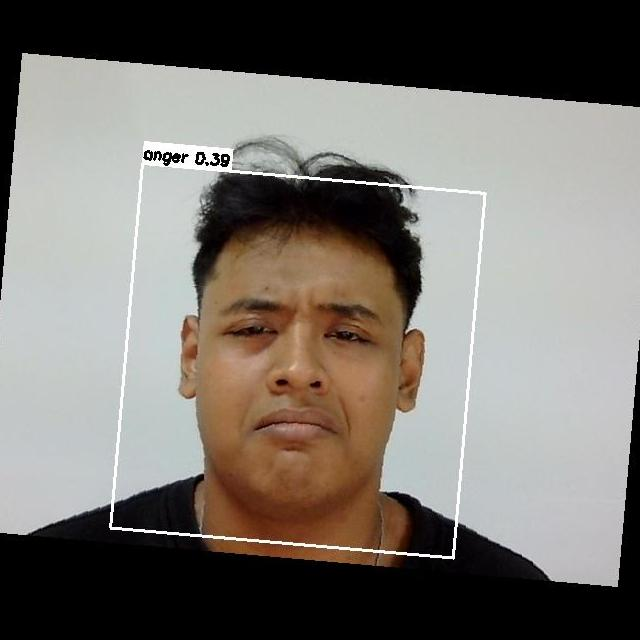Sad: (200, 270, 408, 479)
